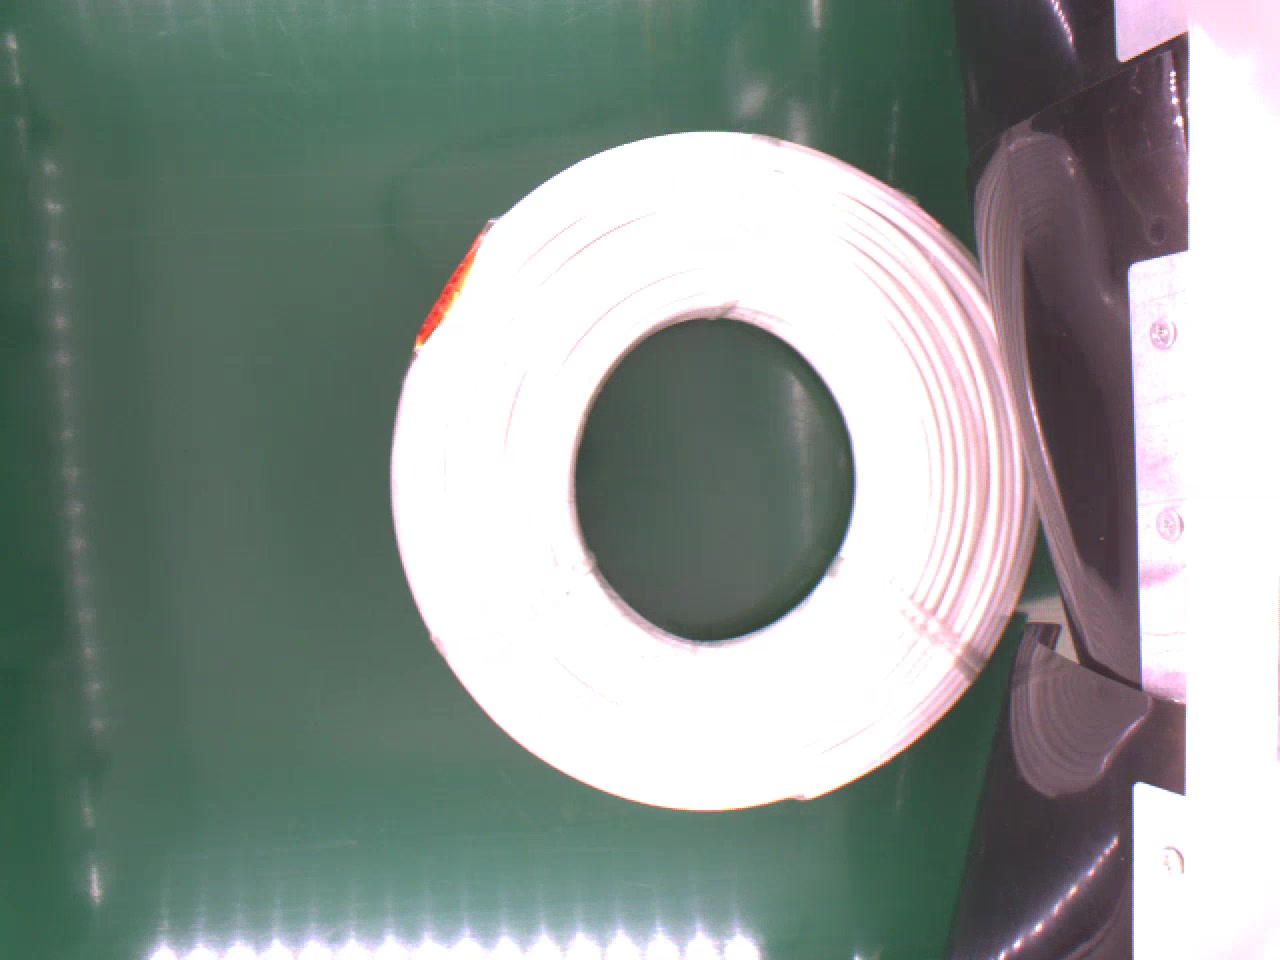white: (389, 128, 1038, 816)
